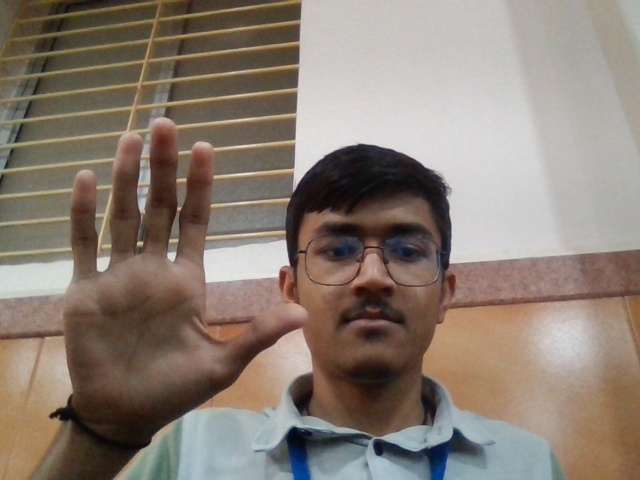Hello: (52, 108, 310, 463)
